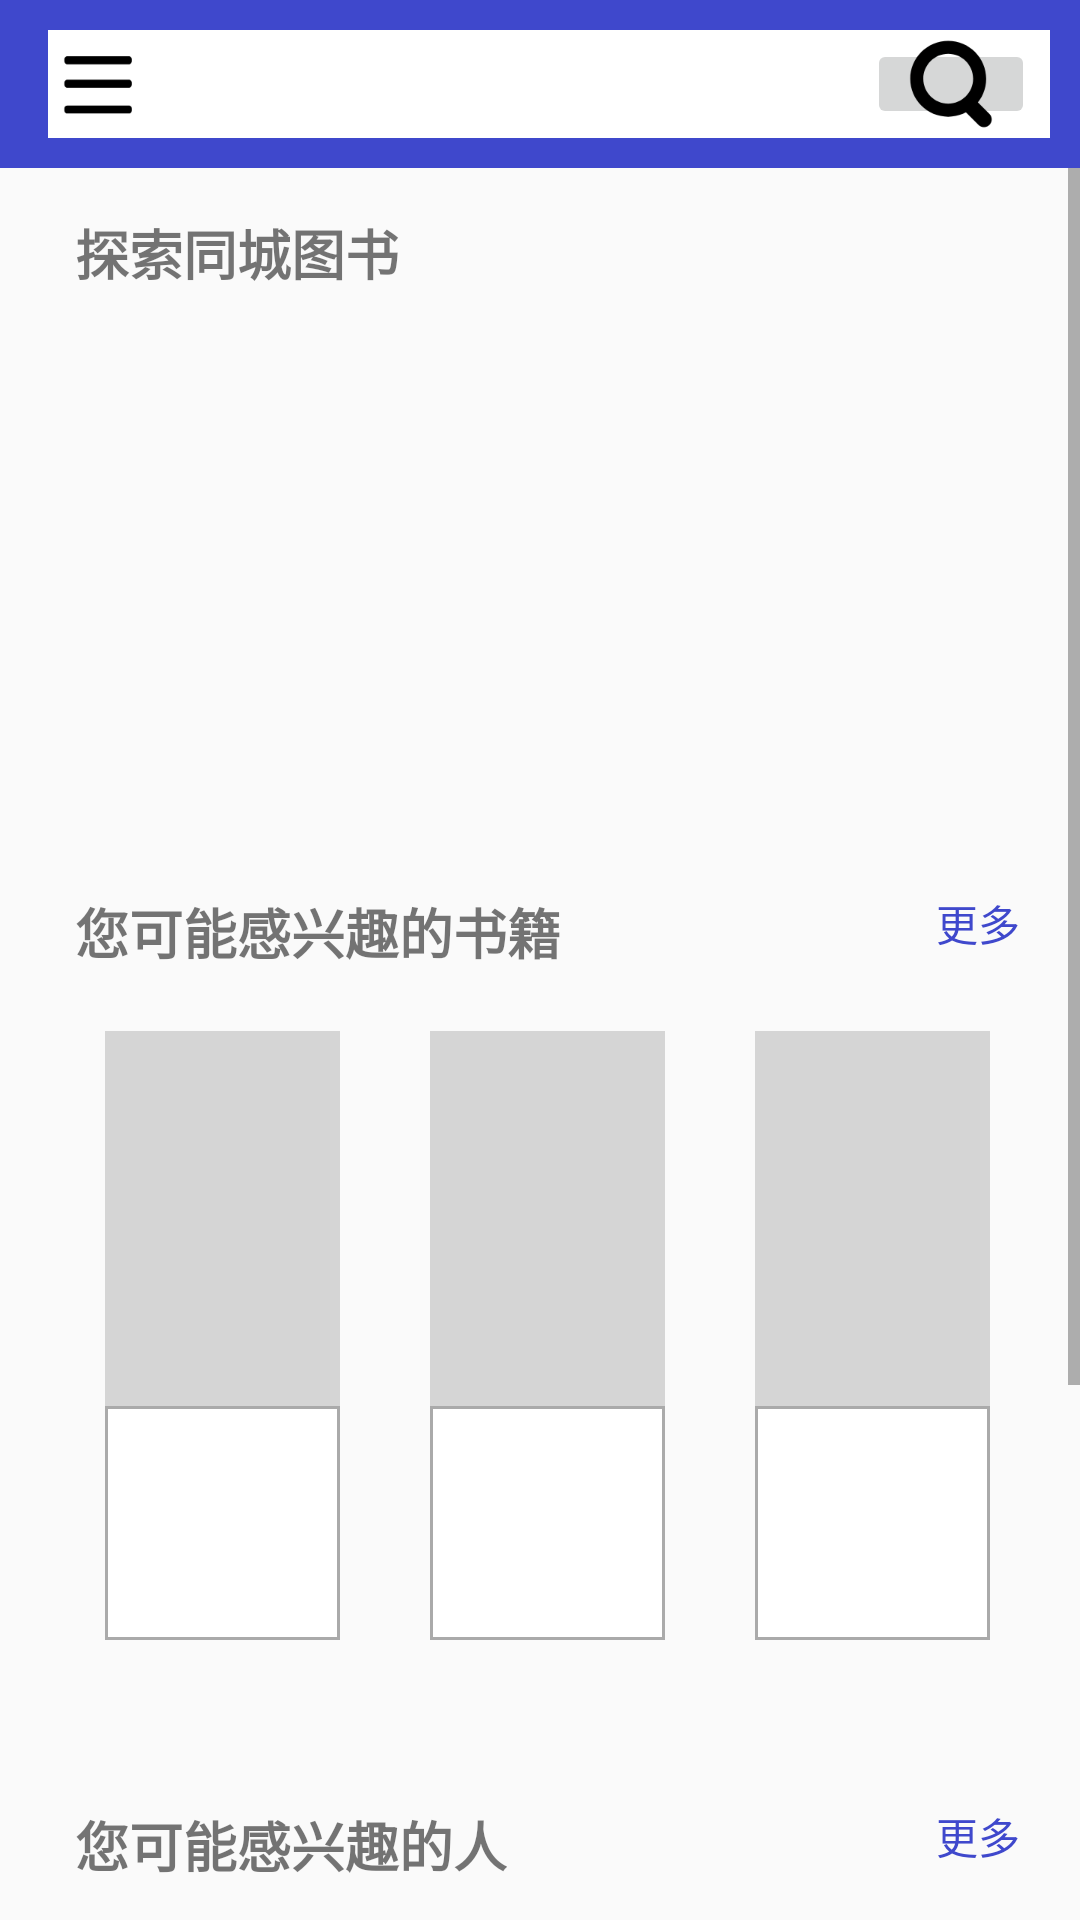

Locate icon controls on the screen. Image size 1080px x 1920px, boxes as (x1, y1, x2, y2).
leftmenuhome: (64, 56, 132, 114)
